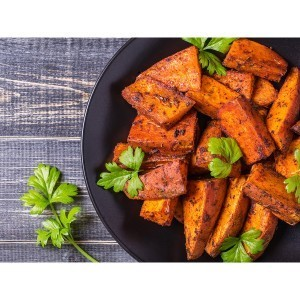sweet potato_brain food: (135, 55, 284, 231)
